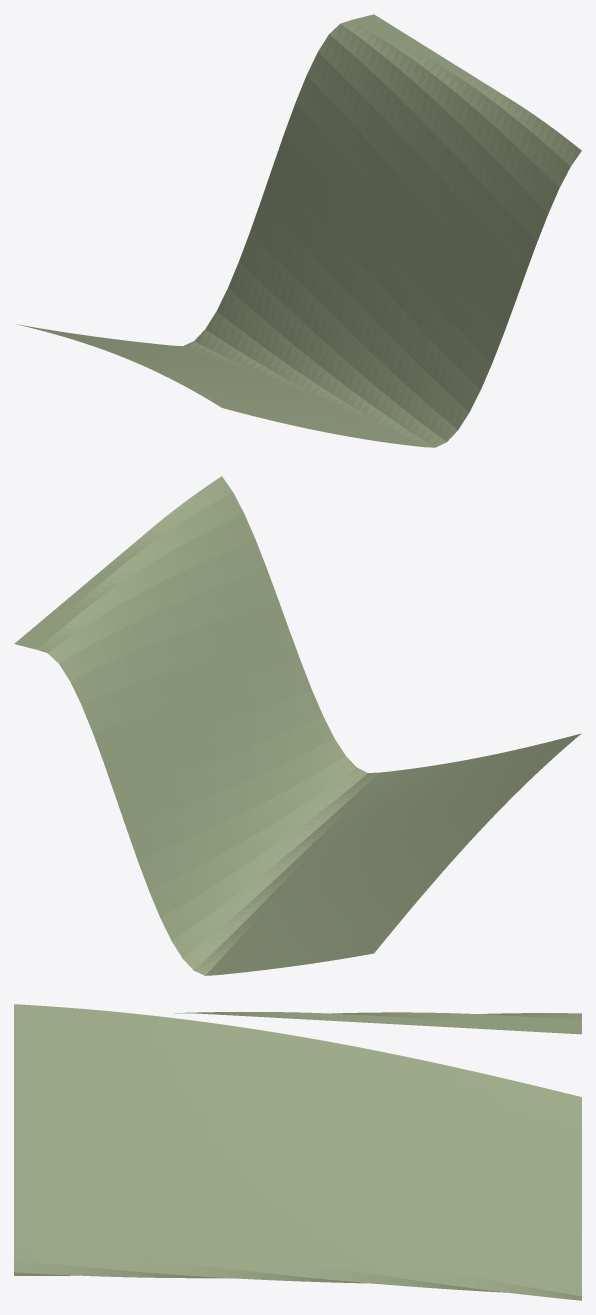
File: alpine-11-6.glb
3 views of the same model, one above another, from view 1: azimuth 30°, elevation 25°; view 2: azimuth 150°, elevation 25°; view 3: azimuth 270°, elevation 25° (orthographic). The views are drawn at different scales.
Visible parts, largest first — view 1: alpine-11-6; view 2: alpine-11-6; view 3: alpine-11-6.
Part boxes in pixels (box(x1,y1,x2,y2)): alpine-11-6: box(17, 14, 581, 447); alpine-11-6: box(14, 476, 581, 975); alpine-11-6: box(14, 1004, 581, 1300).
Size of the model in its own units: 256 by 205 by 256.
